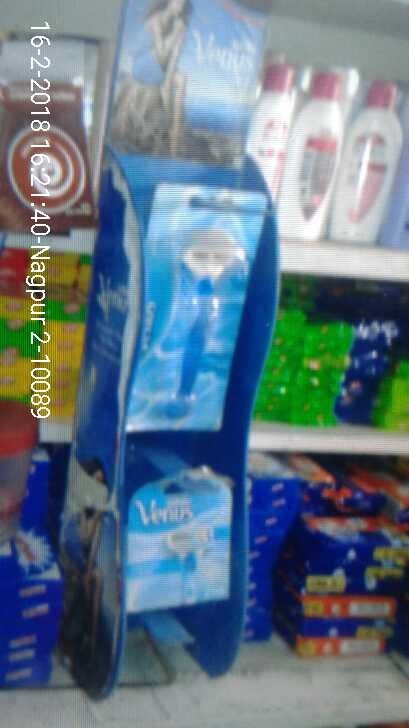venus: (125, 176, 270, 431), (127, 480, 236, 610)
